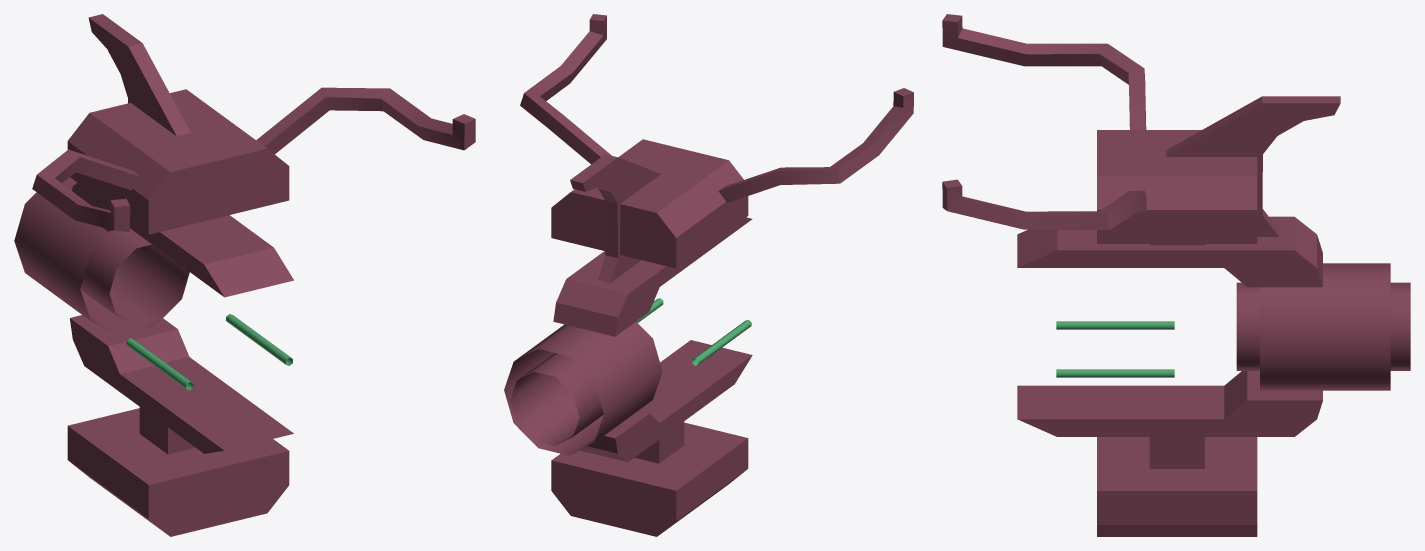
File: mech 2 dynamic lod1.FBX
The picture shows the model from 3 angles, left to right: view 1: azimuth 30°, elevation 25°; view 2: azimuth 150°, elevation 25°; view 3: azimuth 270°, elevation 25°; orthographic projection. The views are drawn at different scales.
Parts seen in each view (by area): view 1: Object073; view 2: Object073; view 3: Object073.
Part boxes in pixels (x1,y1,x2,y2): Object073: [14, 14, 475, 536]; Object073: [504, 14, 913, 536]; Object073: [942, 14, 1410, 536].
Bounding box in the file's own units: 2.31 × 2.56 × 2.63.
